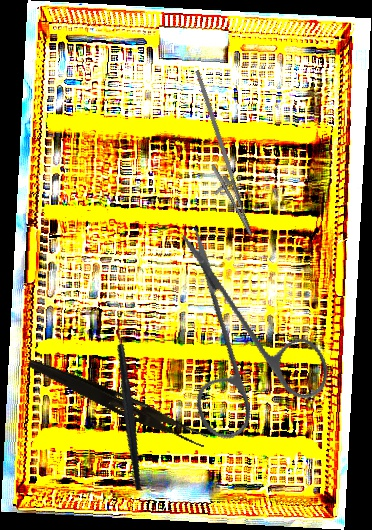Chopper: (70, 316, 178, 491)
Dressing Forceps: (24, 356, 211, 449)
Iris Scissors: (121, 223, 362, 466)
Needle Holder: (163, 69, 273, 242)
